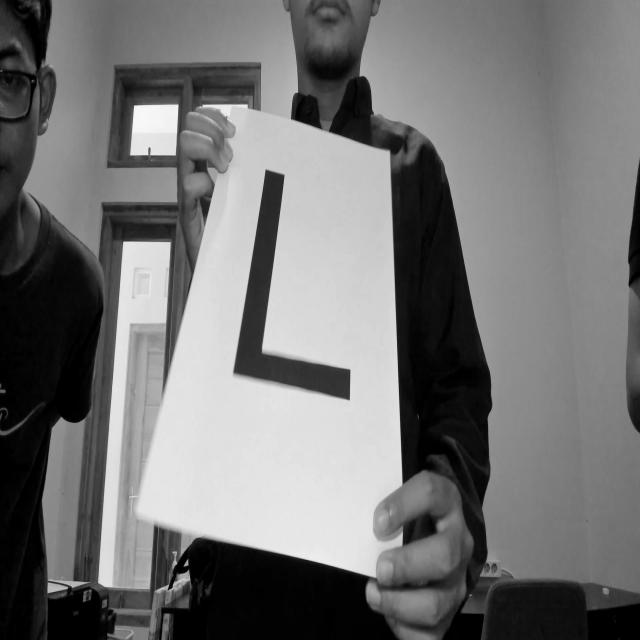l: (227, 147, 361, 420)
